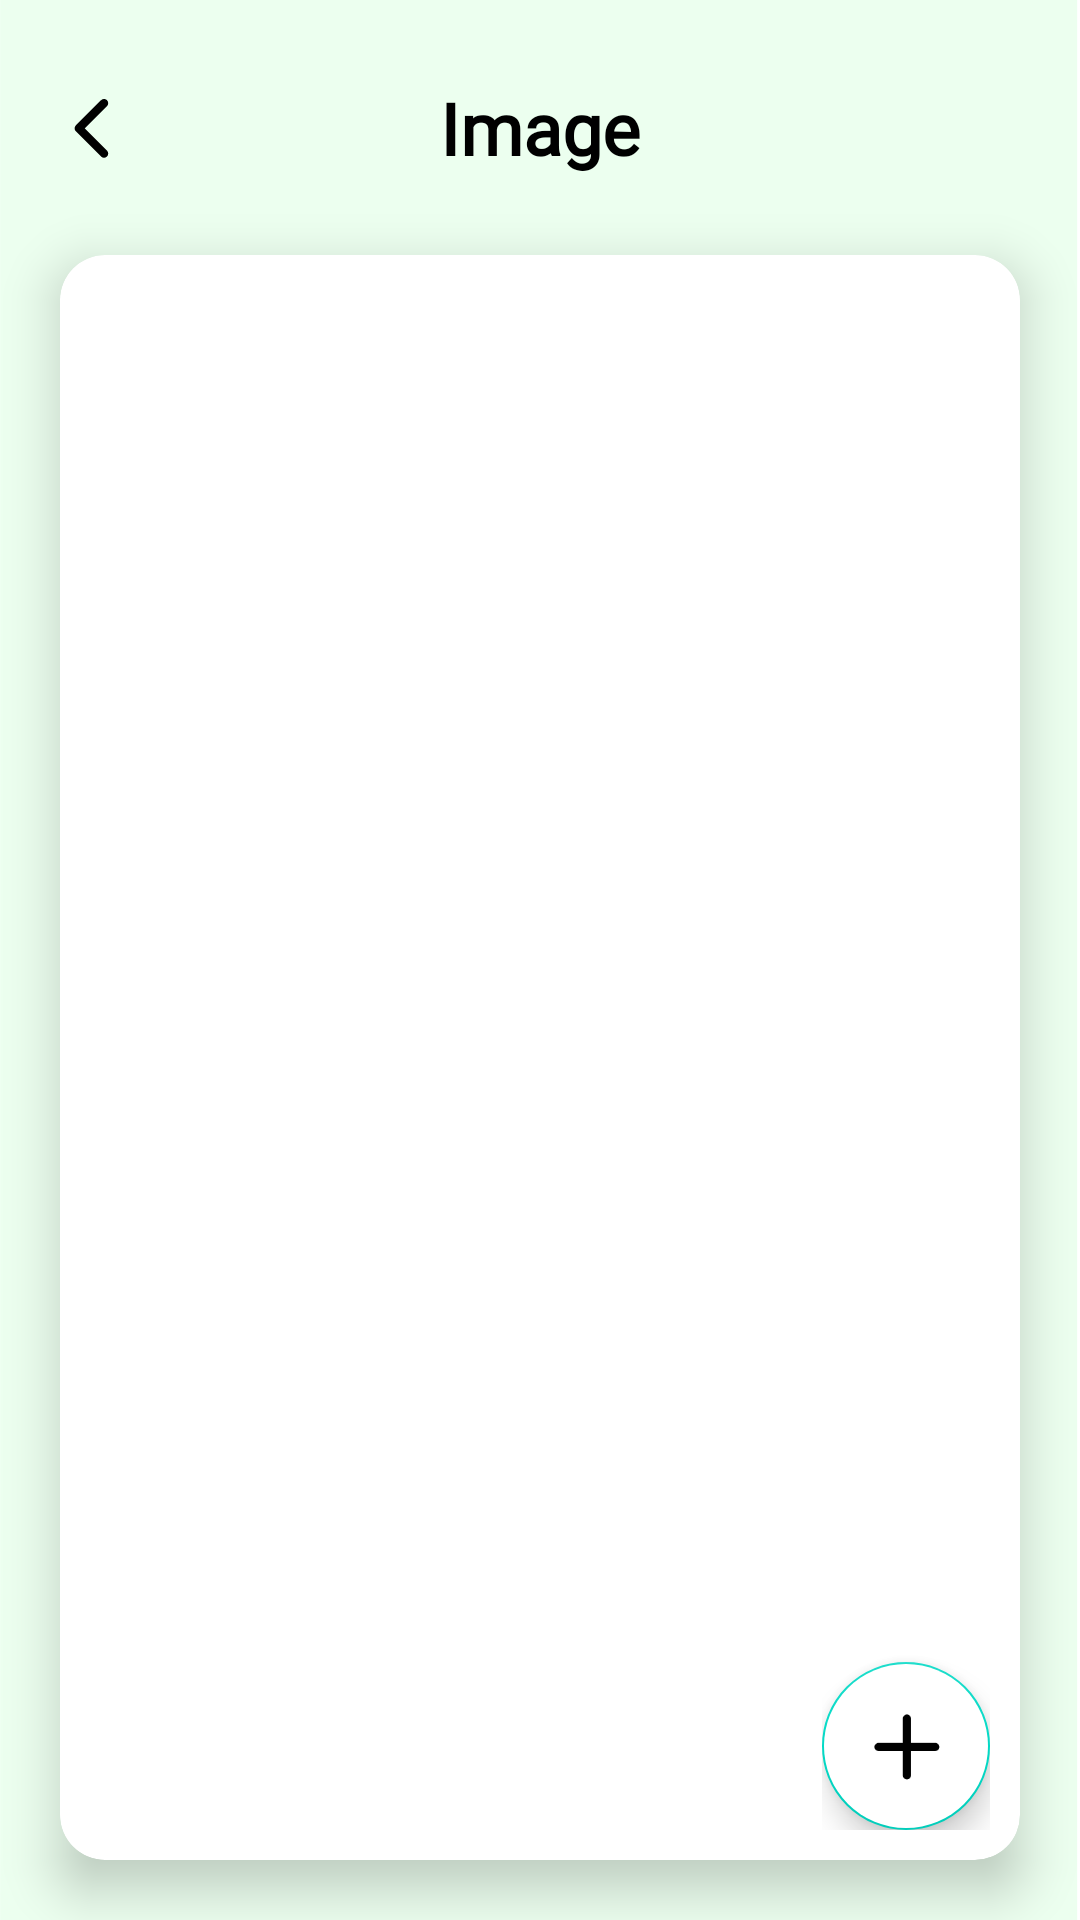

Screen size 1080px x 1920px. Icon name, then its center in pixels as point (x, y):
Back Button: point (91, 128)
